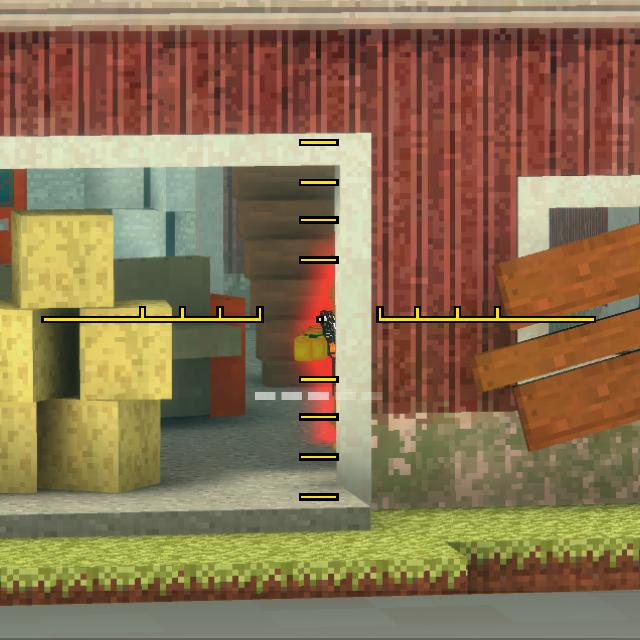Enemy: (294, 278, 336, 451)
